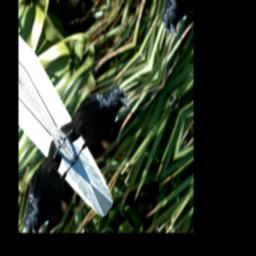Crow: (56, 61, 132, 174)
